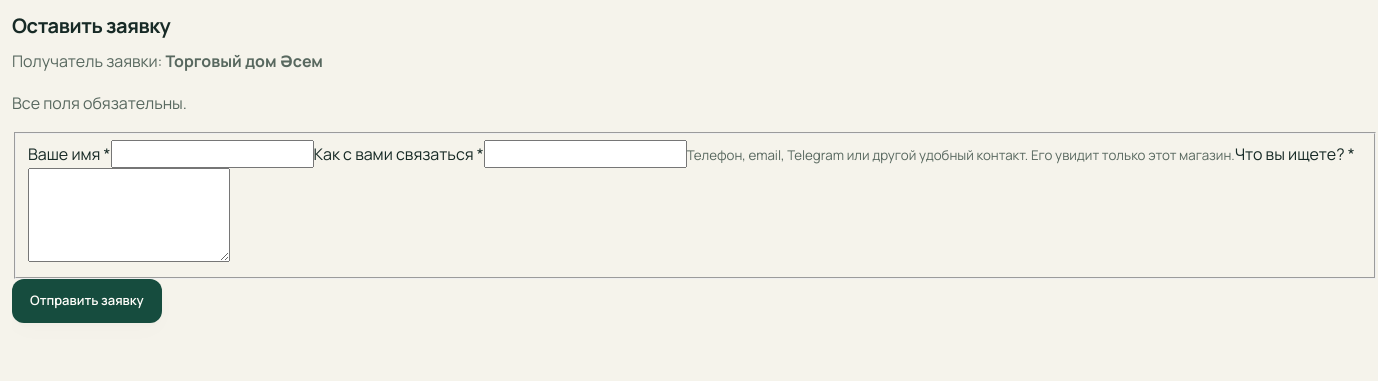
Test case: public shop inquiry form › keeps entered values editable after a definitive API rejection
Type "Алия" into the field labelled "Ваше имя *".
click(212, 154); type("Алия")  # box [111,140,314,168]
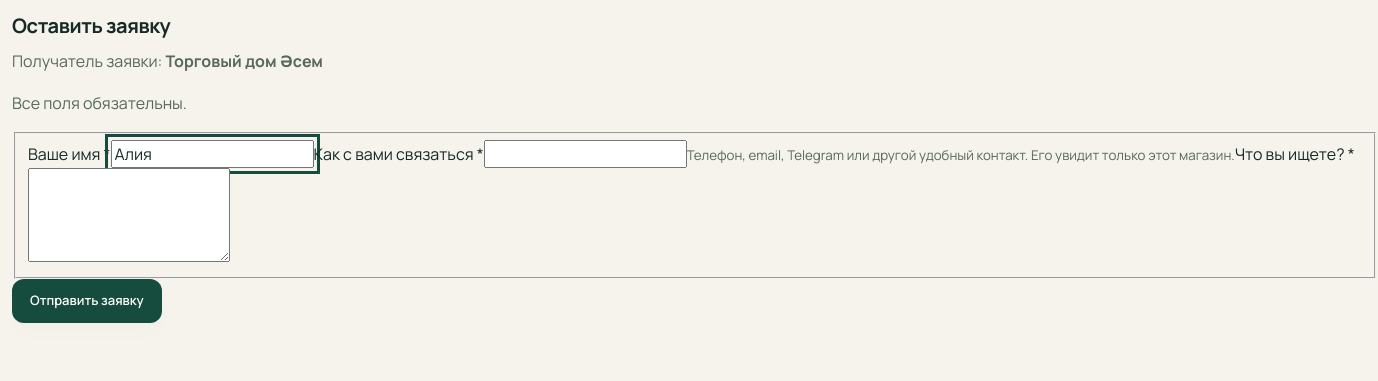
Type "buyer@example.test" into the field labelled "Как с вами связаться".
click(585, 154); type("buyer@example.test")  # box [484,140,687,168]
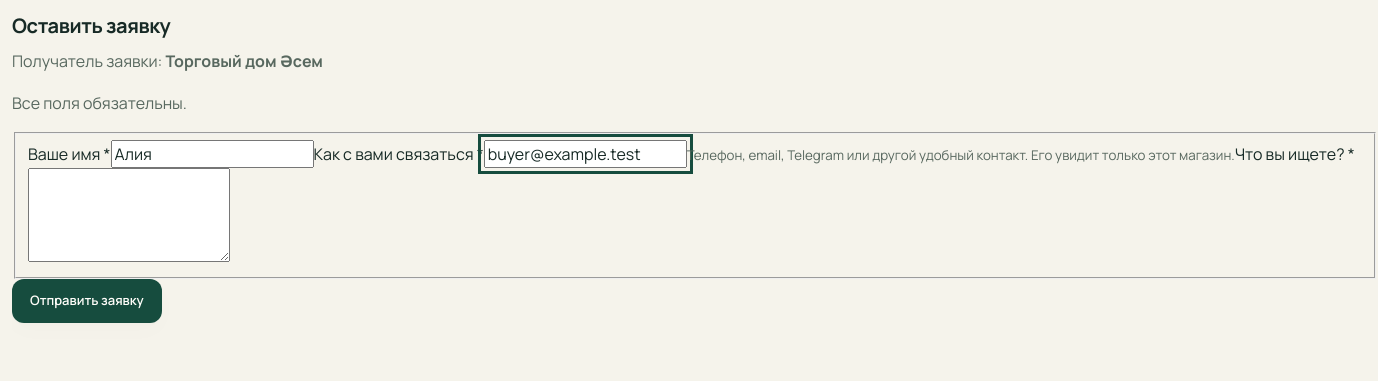
Type "Школьный рюкзак" into the text box labelled "Что вы ищете? *".
click(129, 215); type("Школьный рюкзак")  # box [28,168,230,262]
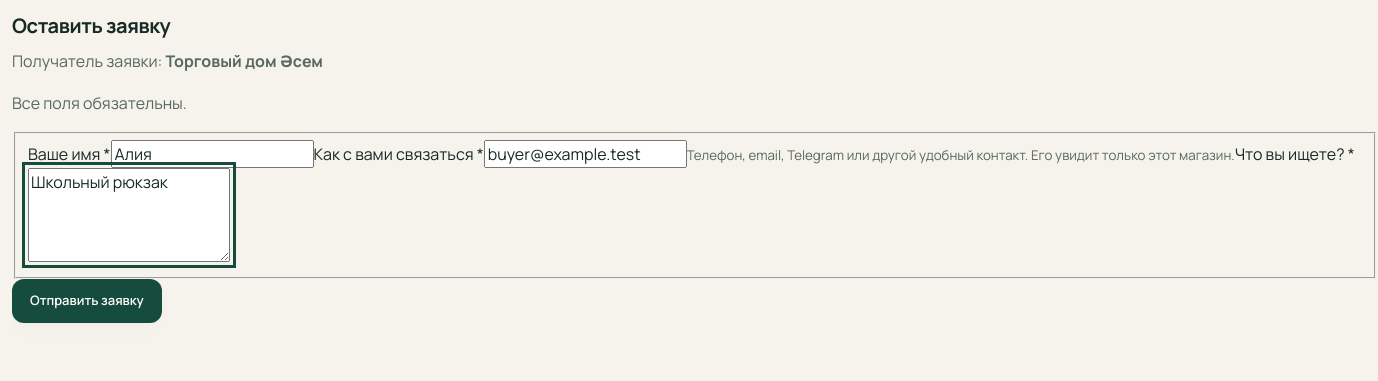
Click the button "Отправить заявку".
click(87, 301)  # box [12,279,162,323]
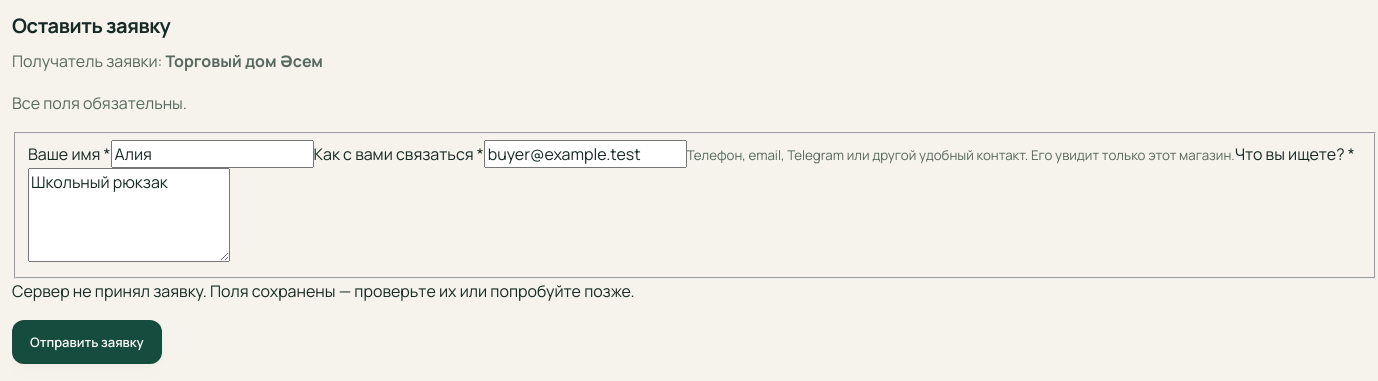
Check: the field labelled "Ваше имя *" is enabled, box [111,140,314,168]
Check: the text "Сервер не принял заявку. Поля сохранены — проверьте их или попробуйте позже." is shown, box [12,280,635,302]
